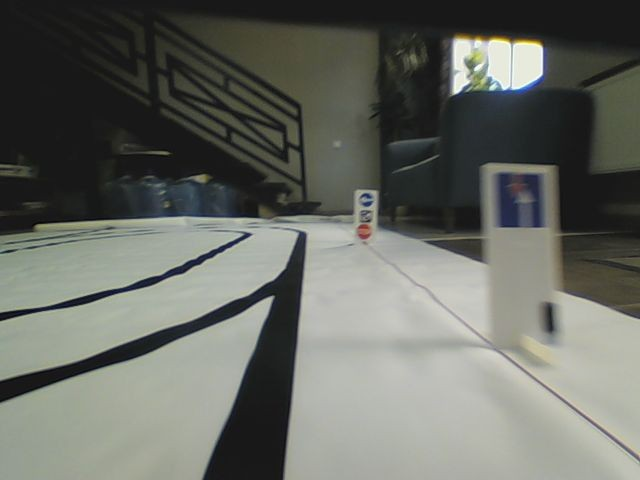priority_movement: (494, 169, 550, 231)
